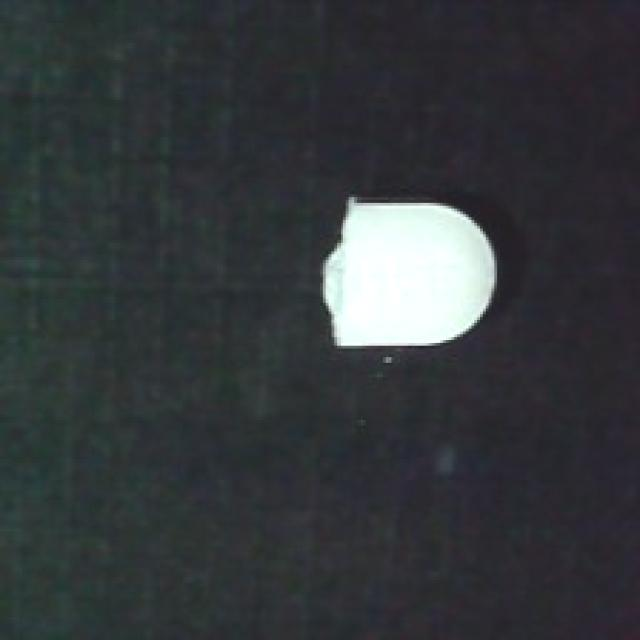defected: (311, 191, 520, 357)
